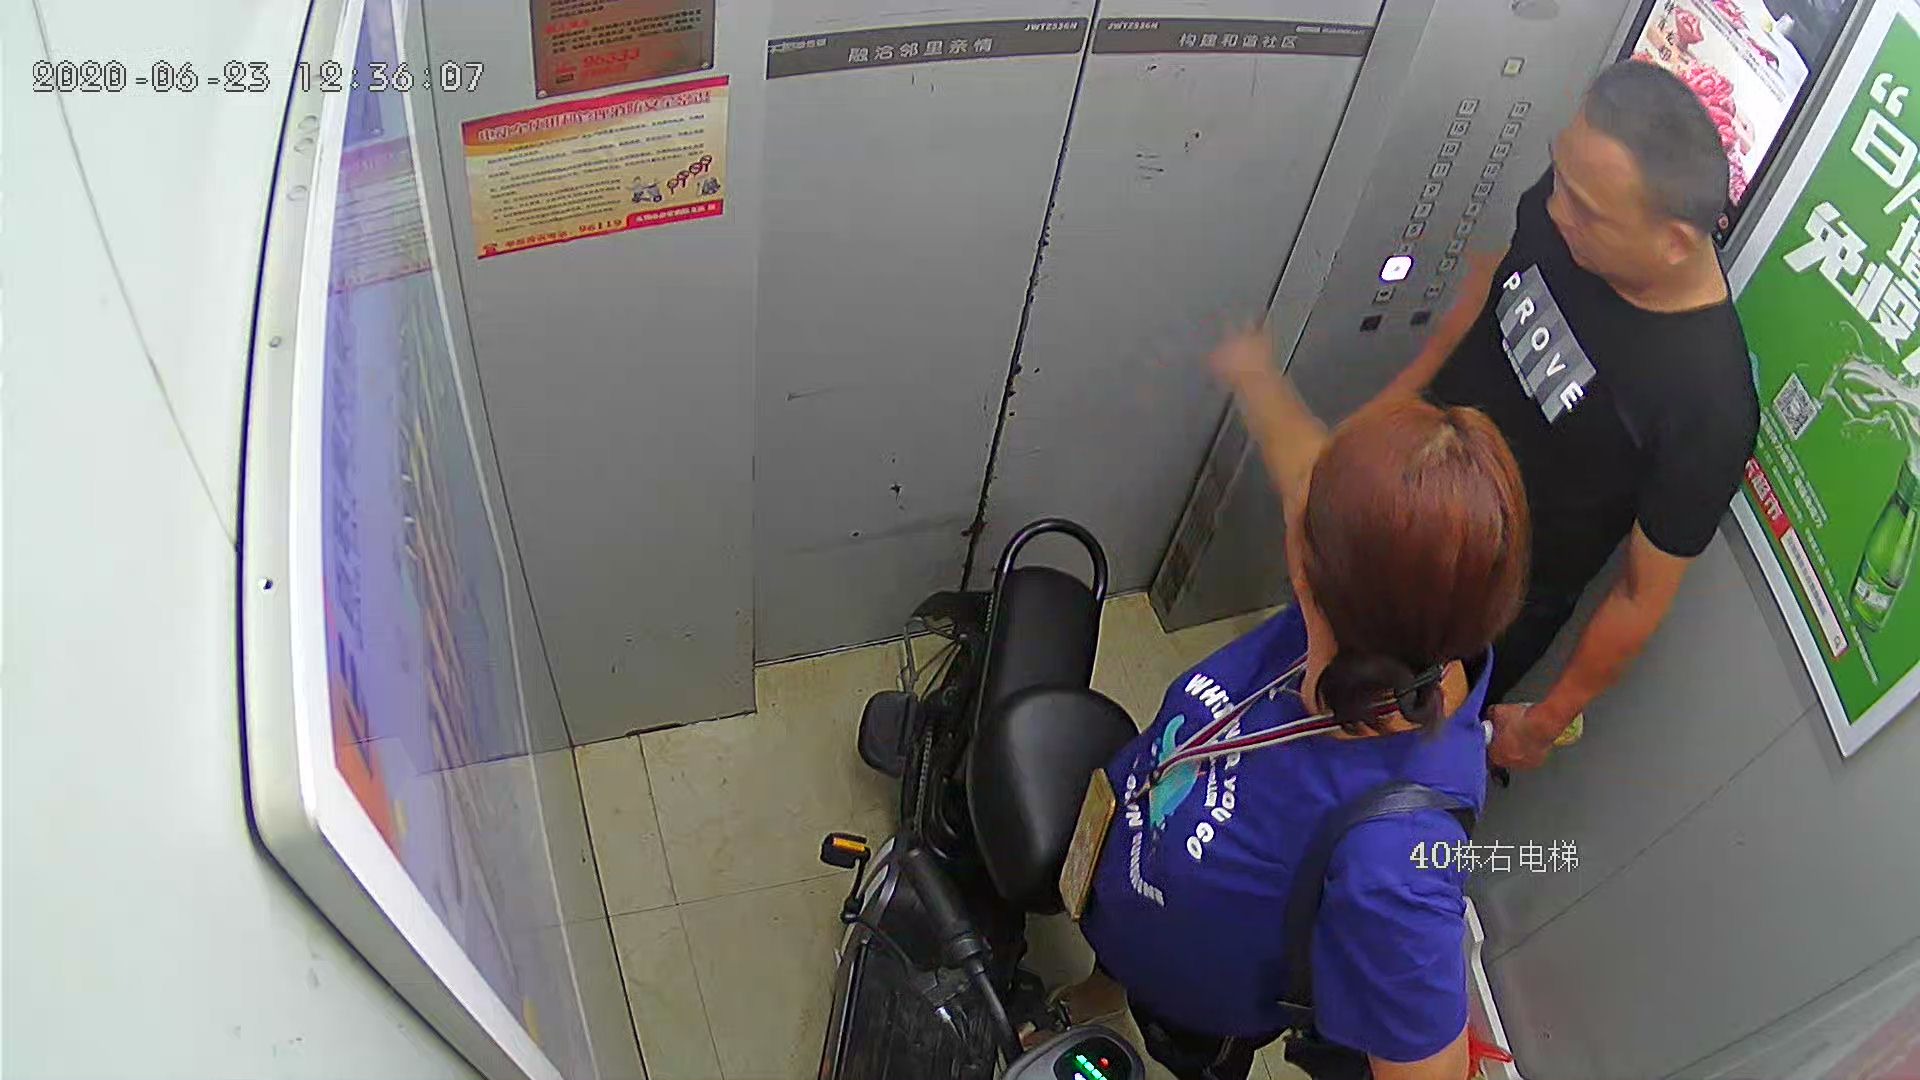Electric-bicycle: (833, 510, 1156, 1076)
